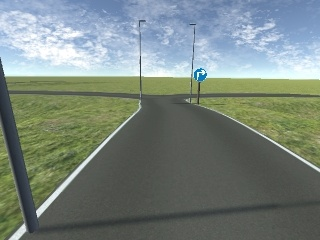TRight: (193, 67, 207, 83)
